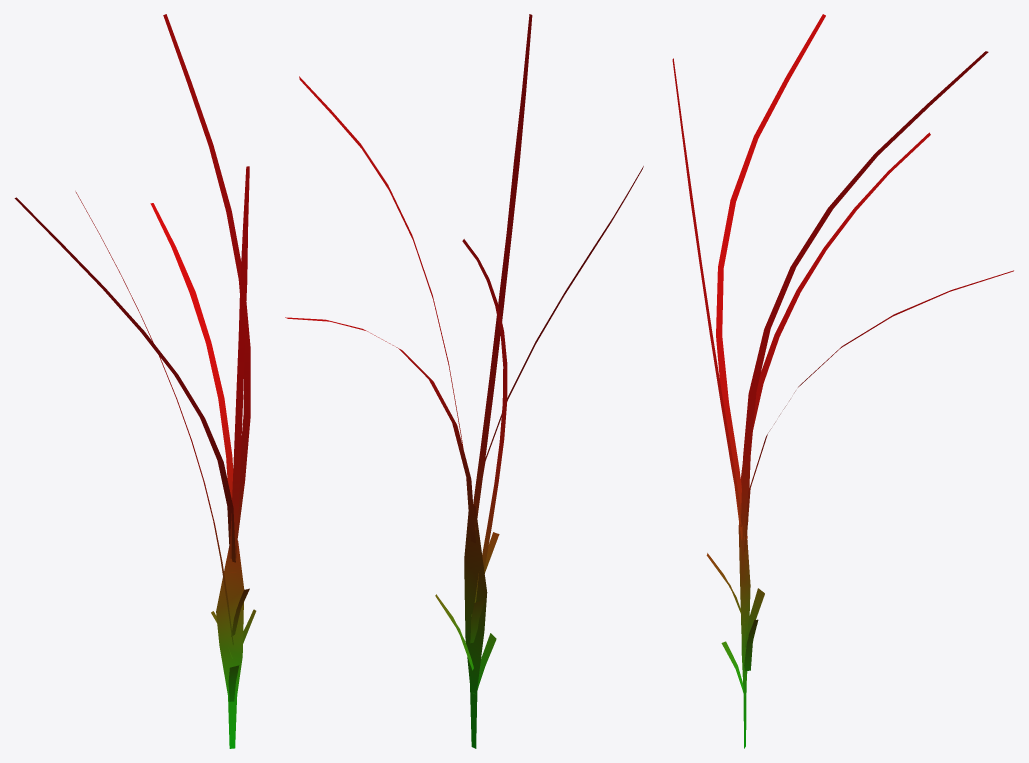
The model's file is Sea Wheatgrass_LOD1_Var6_ui2oagjia.fbx.
The picture shows the model from 3 angles, left to right: view 1: azimuth 30°, elevation 25°; view 2: azimuth 150°, elevation 25°; view 3: azimuth 270°, elevation 25°; orthographic projection. The views are drawn at different scales.
Visible parts, largest first — view 1: _rxqe_Var6_LOD1; view 2: _rxqe_Var6_LOD1; view 3: _rxqe_Var6_LOD1.
Boxes of the visible parts, box(x1,y1,x2,y2) form: _rxqe_Var6_LOD1: box(14, 14, 256, 748); _rxqe_Var6_LOD1: box(285, 14, 643, 748); _rxqe_Var6_LOD1: box(672, 14, 1013, 748).
Bounding box in the file's own units: 22.31 × 61.55 × 26.51.
